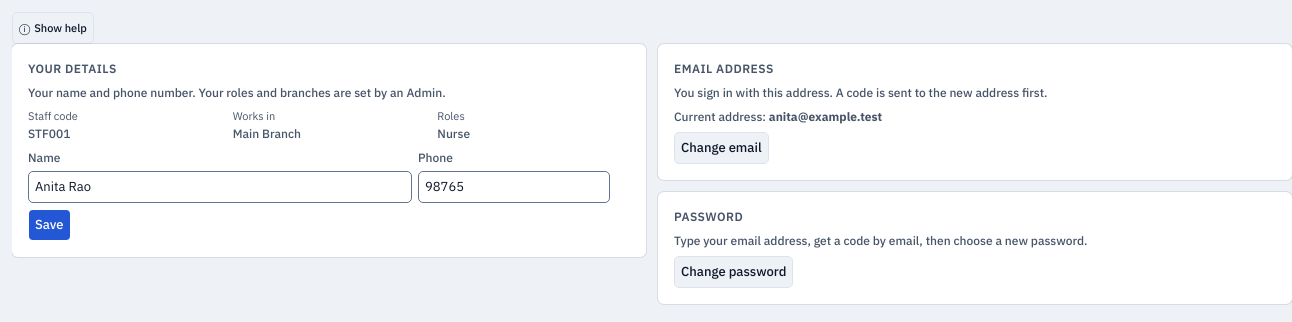
name and phone › saves the typed values and shows what the API kept
Replace the text in the field labelled "Name" with " Anita R " at (220, 186), box [28, 170, 412, 202]
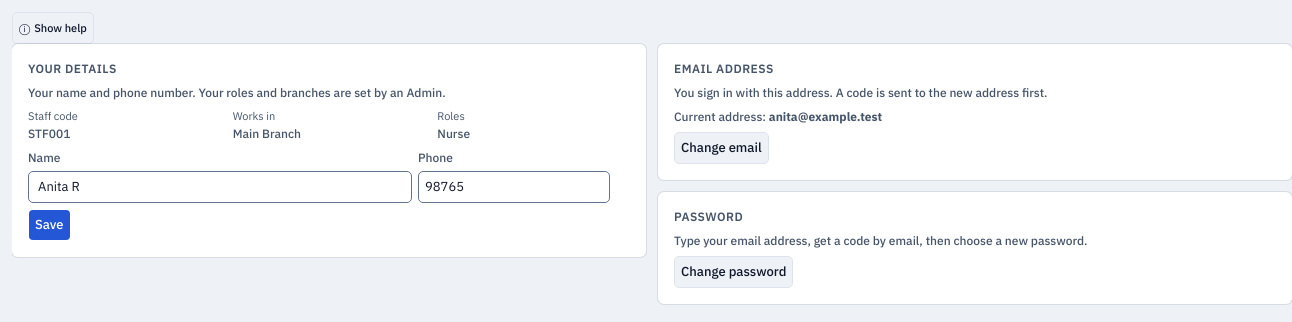
Clear the field labelled "Phone" at (514, 186), box [418, 170, 610, 202]
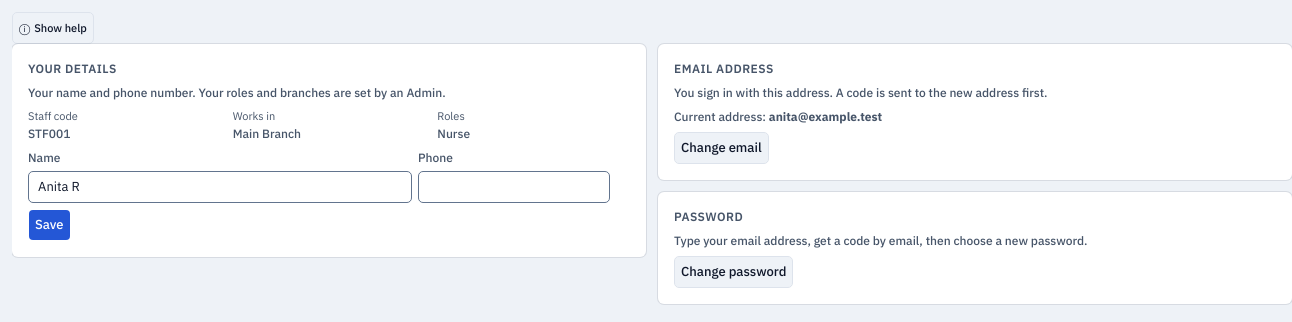
Click the button "Save".
click(49, 224)  # box [28, 208, 71, 240]
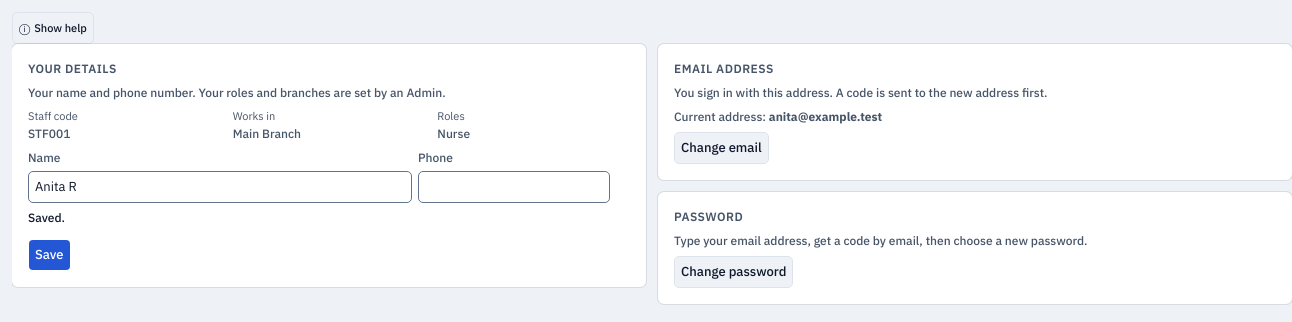
Expected: the message reads "Saved.", [28, 210, 65, 224]
